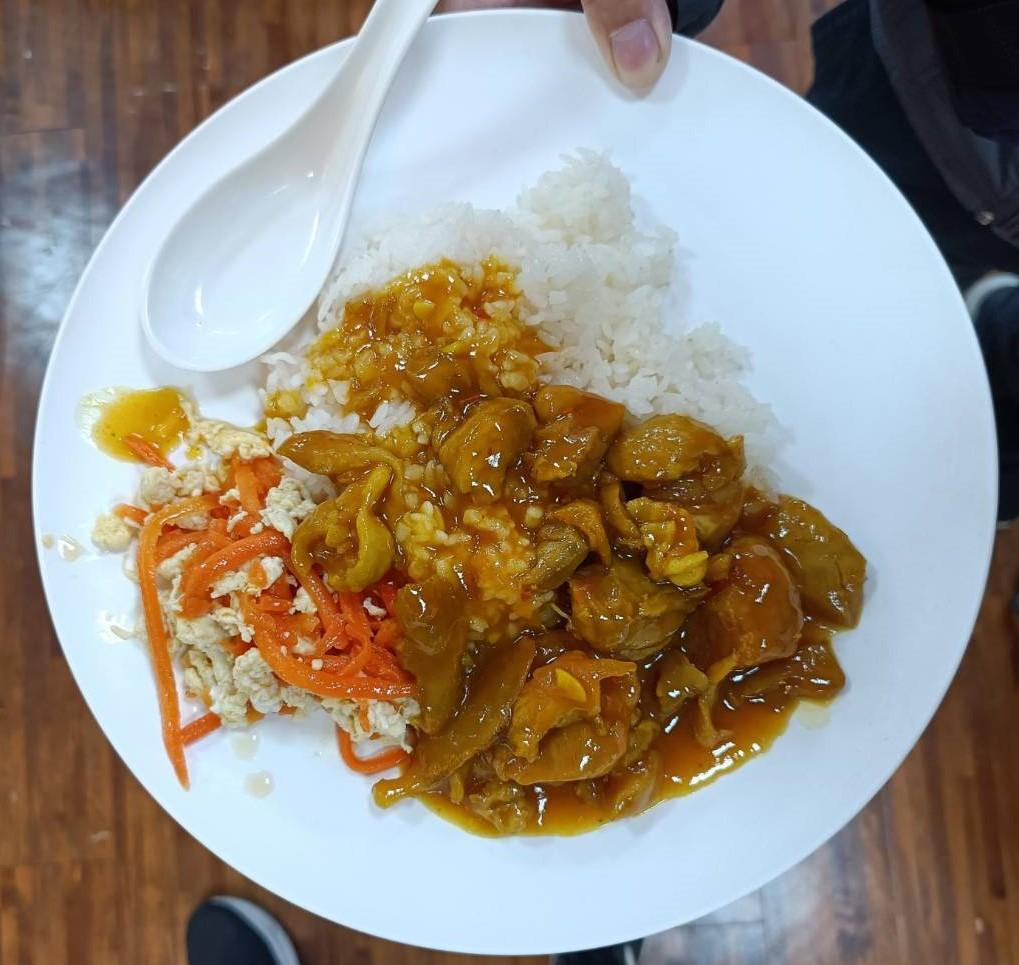big fried chicken leg: (18, 0, 1019, 959)
big herbal chicken leg: (258, 148, 797, 578)
braised fish fillet: (90, 418, 417, 761)
braised pork: (306, 394, 874, 834)
